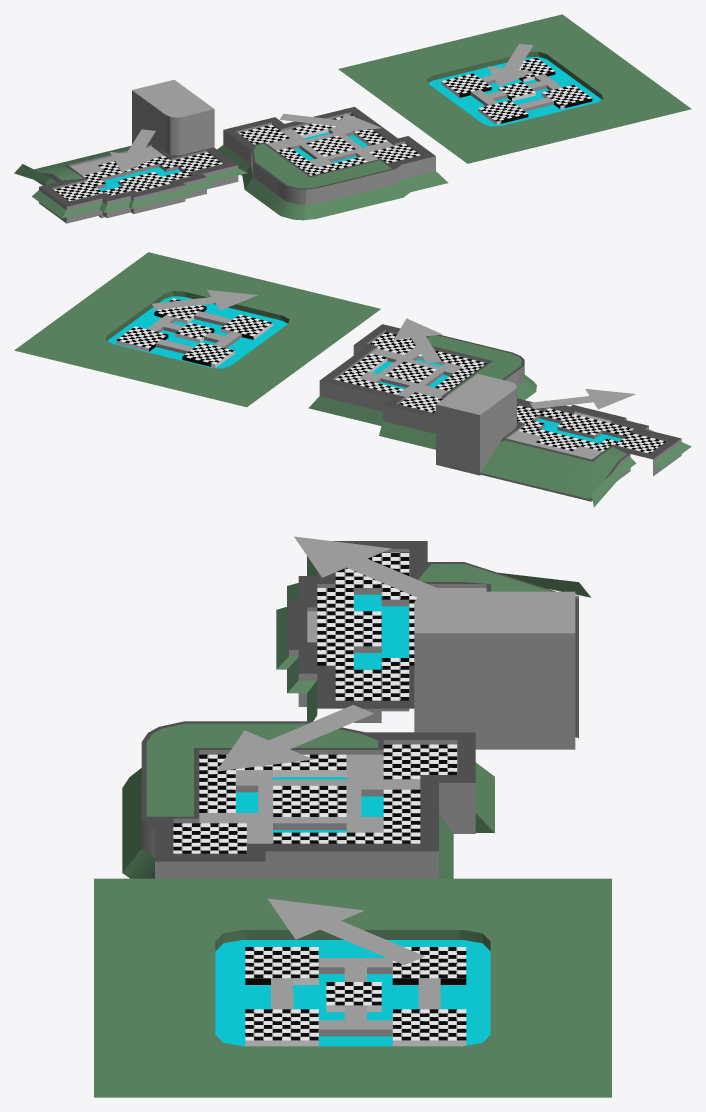
Rendered from NEW_Dressing_N3.fbx.
3 views of the same model, one above another, from view 1: azimuth 30°, elevation 25°; view 2: azimuth 150°, elevation 25°; view 3: azimuth 270°, elevation 25° (orthographic). The views are drawn at different scales.
Visible parts, largest first — view 1: Cesped1, Escenario (×3), Agua (×3), TransCesped (×2), Wall, Orientacion1, Orientacion, Orientacion2; view 2: Cesped1, Escenario (×3), Agua (×2), Wall, TransCesped (×2), Orientacion2, Orientacion, Orientacion1; view 3: Cesped1, Escenario (×3), Agua (×3), Wall, TransCesped (×2), Orientacion2, Orientacion1, Orientacion.
Boxes of the visible parts, <box> form: Cesped1: <box>338,14,691,163</box>; Escenario (×3): <box>98,58,592,204</box>; Agua (×3): <box>34,56,601,223</box>; TransCesped (×2): <box>14,145,448,220</box>; Wall: <box>132,79,214,155</box>; Orientacion1: <box>279,113,381,133</box>; Orientacion: <box>110,129,156,172</box>; Orientacion2: <box>487,43,533,86</box>; Cesped1: <box>14,252,380,407</box>; Escenario (×3): <box>116,298,622,443</box>; Agua (×2): <box>107,296,681,501</box>; Wall: <box>436,374,516,475</box>; TransCesped (×2): <box>308,375,691,507</box>; Orientacion2: <box>152,290,257,310</box>; Orientacion: <box>530,388,635,409</box>; Orientacion1: <box>394,318,442,363</box>; Cesped1: <box>94,878,611,1097</box>; Escenario (×3): <box>141,594,475,1046</box>; Agua (×3): <box>215,541,578,1046</box>; Wall: <box>414,591,575,749</box>; TransCesped (×2): <box>122,556,590,878</box>; Orientacion2: <box>267,898,424,965</box>; Orientacion1: <box>216,705,373,771</box>; Orientacion: <box>294,536,444,597</box>.
Size of what is drawn, in the model's own units: 361 by 39.94 by 141.
